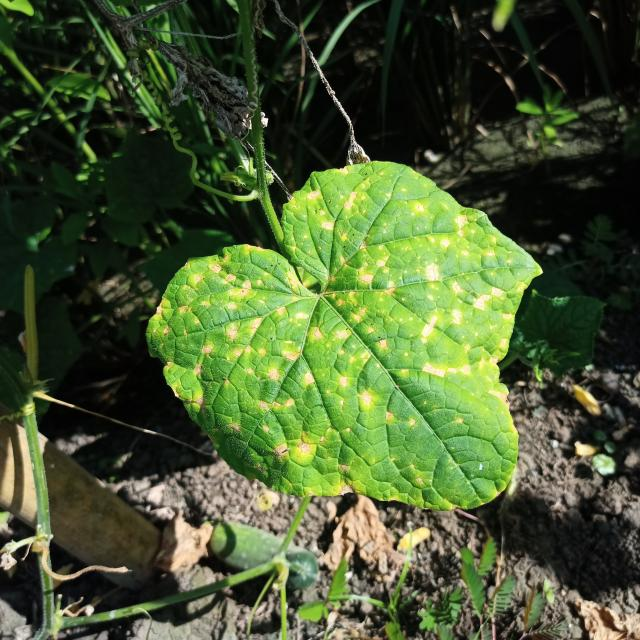disease_cucumber: (162, 168, 524, 507)
